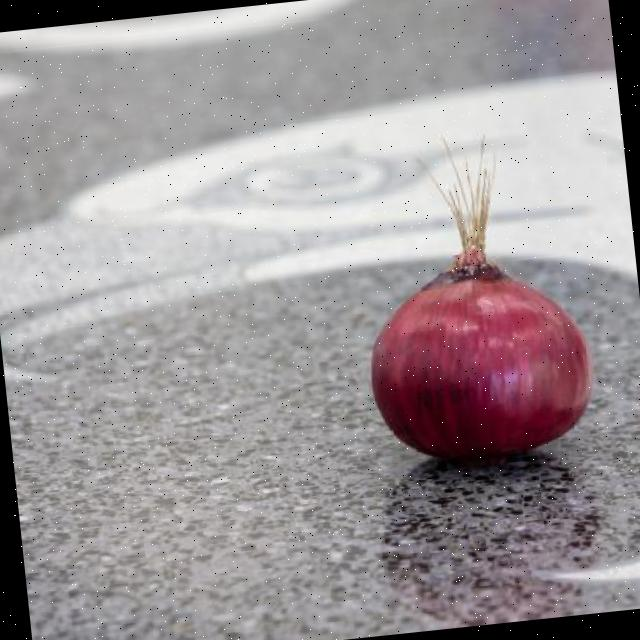Onion: (372, 267, 593, 459)
